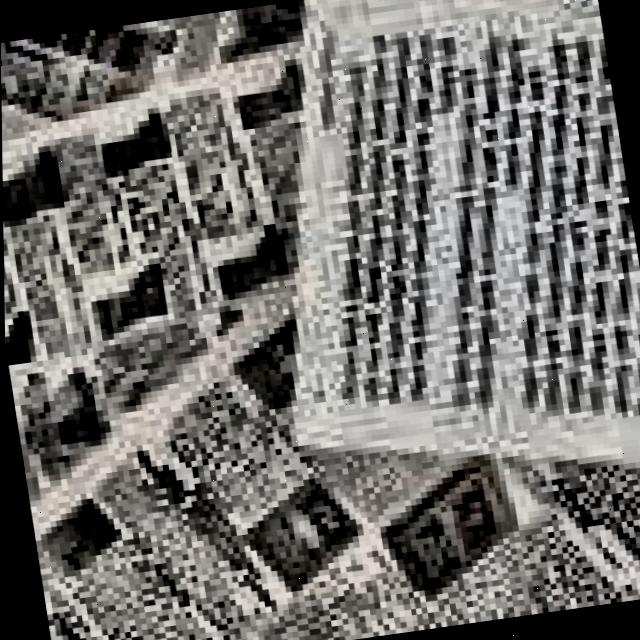paper: (0, 0, 640, 640), (294, 0, 640, 457)
